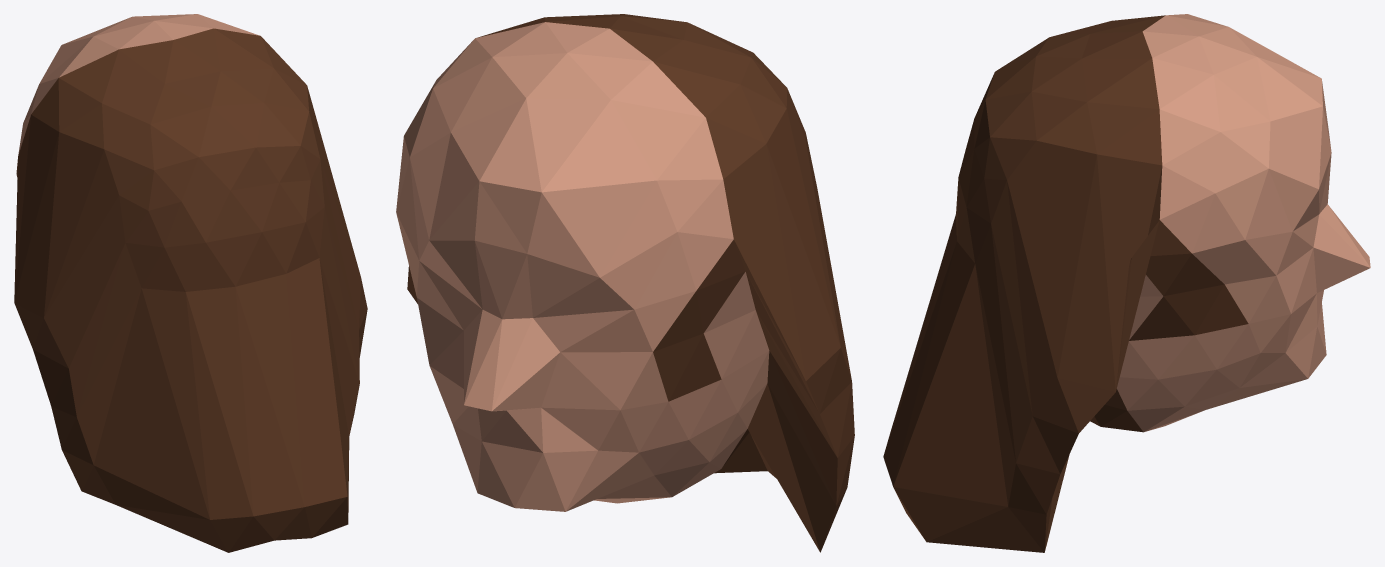
File: sylvain_duriff_safariminer.fbx
3 renders of one model, left to right at view 1: azimuth 30°, elevation 25°; view 2: azimuth 150°, elevation 25°; view 3: azimuth 270°, elevation 25°, orthographic. The views are drawn at different scales.
Visible parts, largest first — view 1: sylvain duriff - Safariminer; view 2: sylvain duriff - Safariminer; view 3: sylvain duriff - Safariminer.
Boxes of the visible parts, x1=… form: sylvain duriff - Safariminer: x1=14, y1=14, x2=367, y2=552; sylvain duriff - Safariminer: x1=396, y1=14, x2=854, y2=552; sylvain duriff - Safariminer: x1=883, y1=14, x2=1370, y2=552.
Size of the model in its own units: 1.96 by 2.36 by 2.51.
